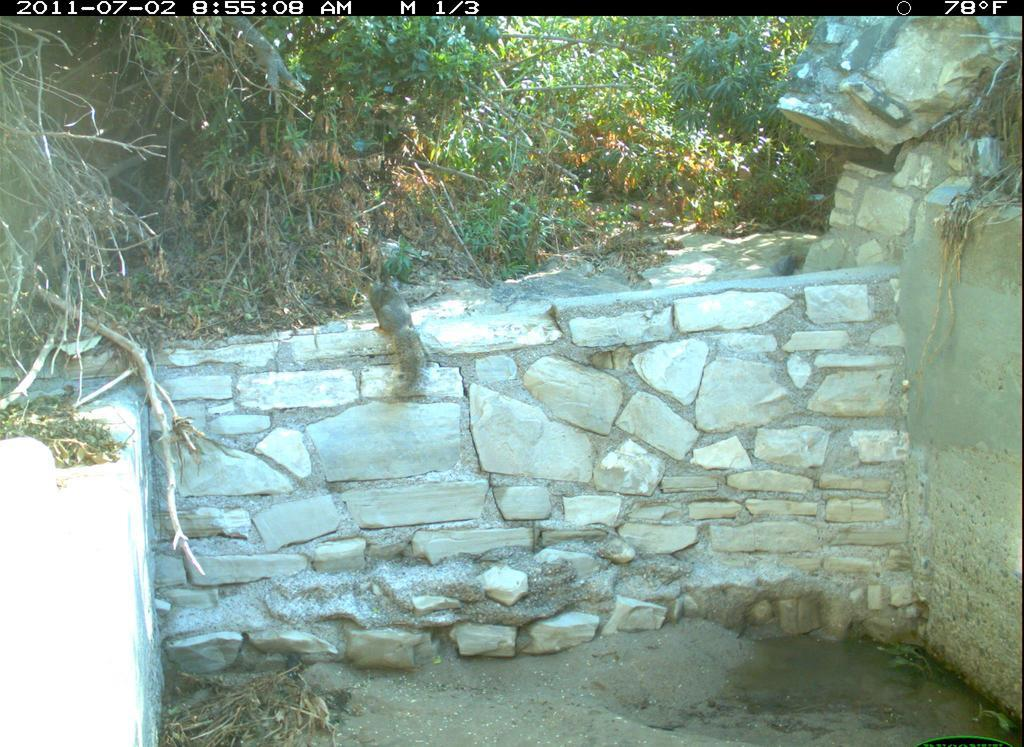squirrel: (359, 240, 436, 415)
